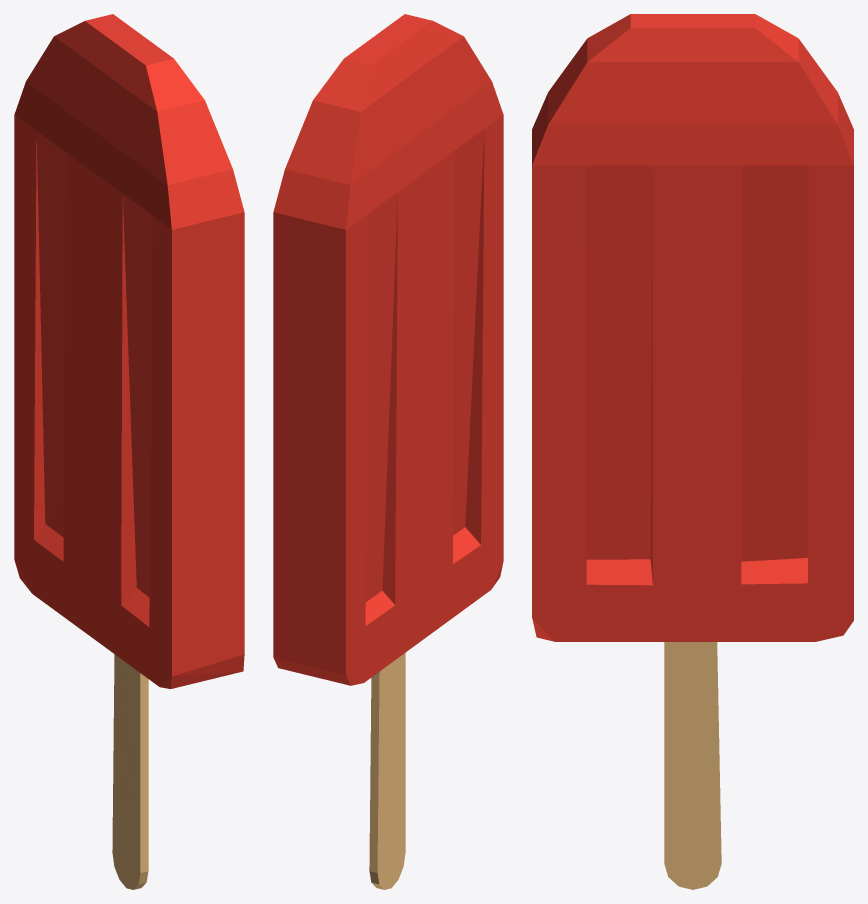
File: popsicle.glb
3 renders of one model, left to right at view 1: azimuth 30°, elevation 25°; view 2: azimuth 150°, elevation 25°; view 3: azimuth 270°, elevation 25°, orthographic. The views are drawn at different scales.
Visible parts, largest first — view 1: Node; view 2: Node; view 3: Node.
Part boxes in pixels (x1,y1,x2,y2): Node: (14, 14, 244, 889); Node: (273, 14, 503, 889); Node: (532, 14, 853, 889).
Size of the model in its own units: 0.0812 by 0.8911 by 0.3.
